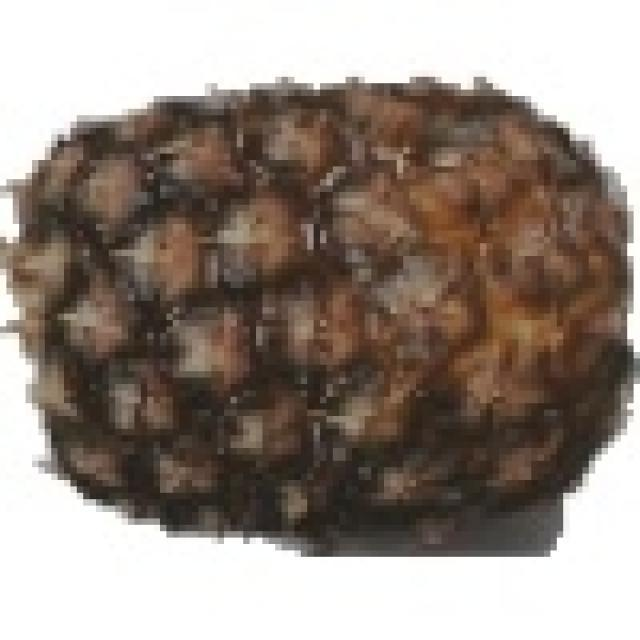pineapple: (6, 70, 608, 538)
